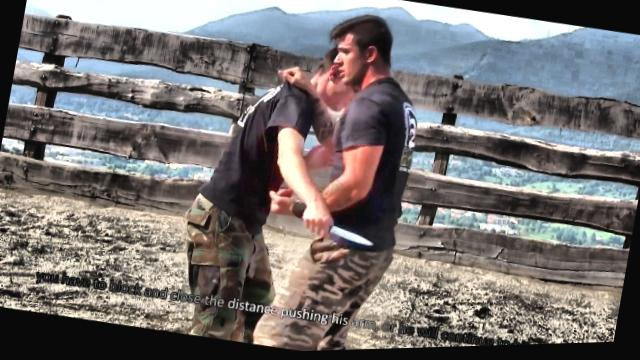knife: (296, 206, 380, 257)
